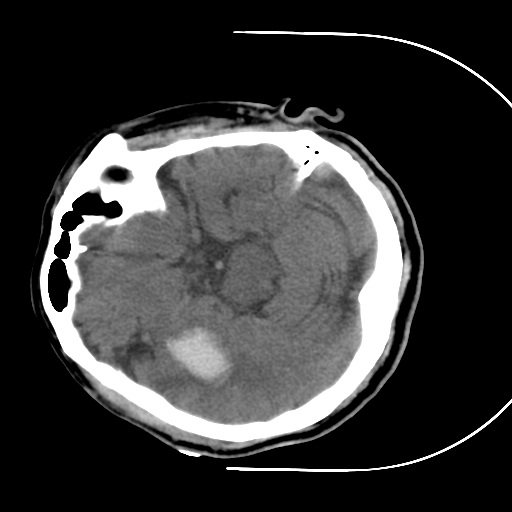a: (141, 302, 252, 403)
